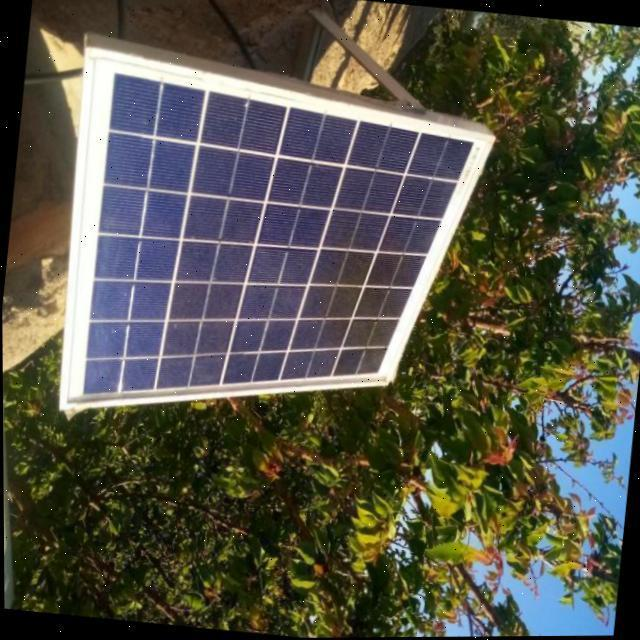Normal Solar Panel: (52, 48, 501, 450)
